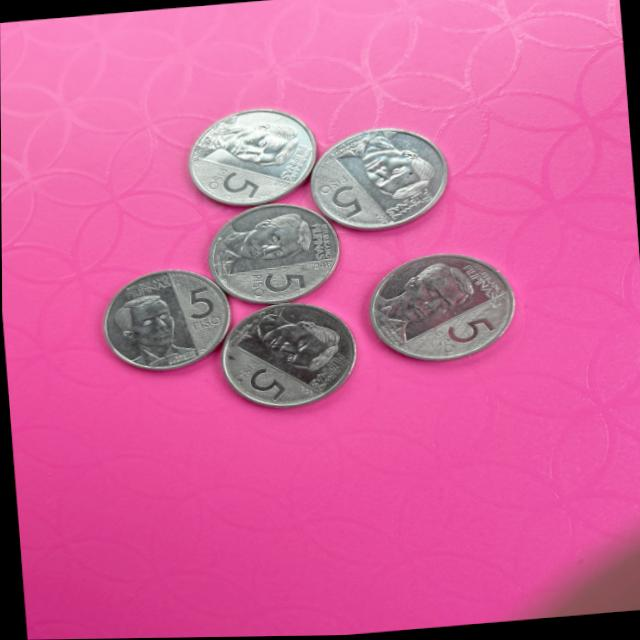5_New_Front: (212, 343, 293, 410), (237, 258, 320, 303), (307, 159, 363, 223), (200, 158, 273, 206), (421, 314, 501, 356), (181, 276, 229, 332)
